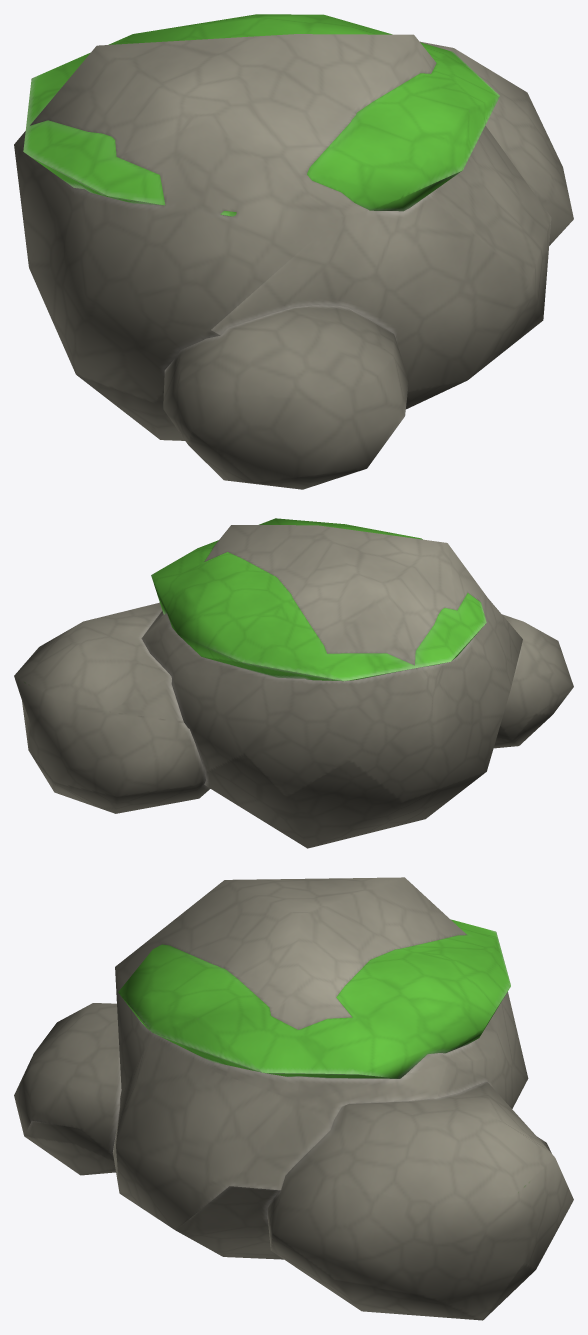
The model's file is tf_rock.glb.
The picture shows the model from 3 angles, top to bottom: view 1: azimuth 30°, elevation 25°; view 2: azimuth 150°, elevation 25°; view 3: azimuth 270°, elevation 25°; orthographic projection. The views are drawn at different scales.
Parts seen in each view (by area): view 1: tf_rock; view 2: tf_rock; view 3: tf_rock.
Part boxes in pixels (<box>): tf_rock: <box>14,14,573,489</box>; tf_rock: <box>14,518,573,848</box>; tf_rock: <box>14,877,573,1320</box>.
Bounding box in the file's own units: 2.48 × 1.73 × 2.58.
2 materials, 2 textured.
